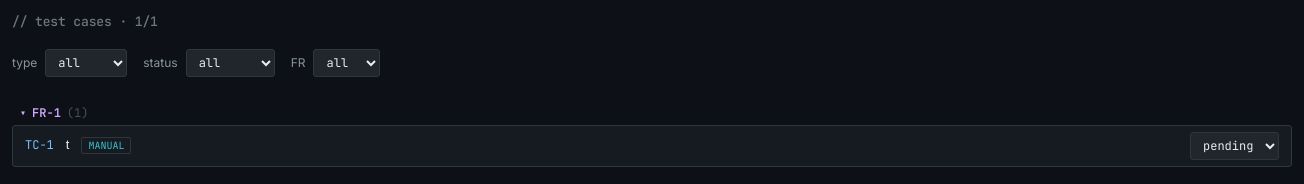
Test: collapsible content groups › Test Cases: an FR group collapses its rows
The image size is (1304, 184).
Expected: the element with test id "tc-row" is shown, [12,125,1292,167]
Click the button with test id "qa-group-toggle" at (23, 113), box [12,101,1292,125]
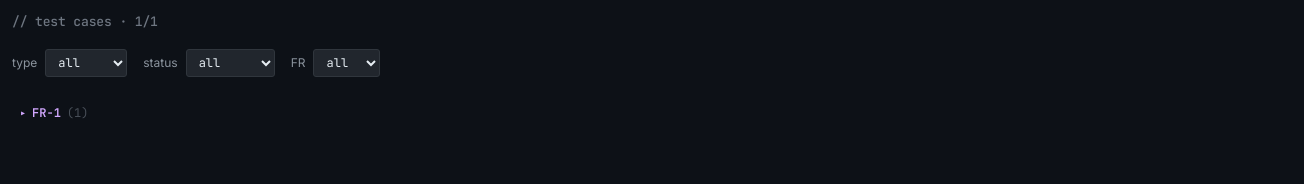
Expected: the element with test id "tc-row" is gone
